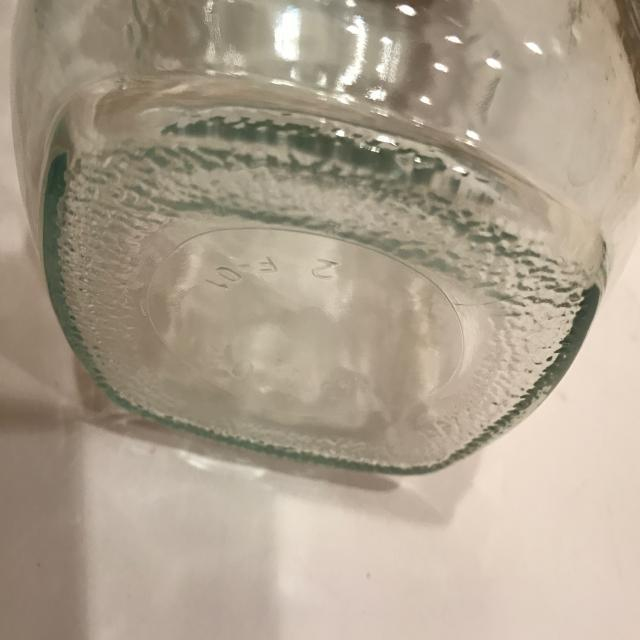glass: (8, 3, 640, 477)
